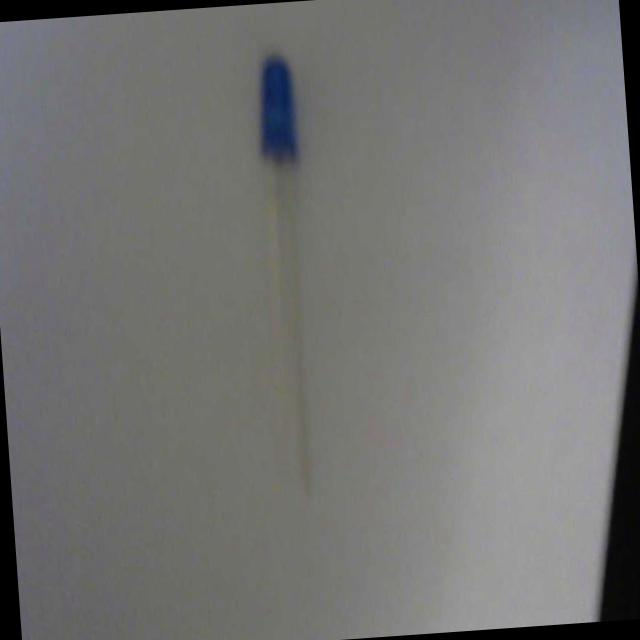blue_led: (253, 52, 299, 164)
